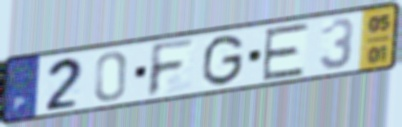0: (93, 49, 129, 103)
2: (42, 53, 87, 115)
3: (318, 15, 355, 73)
E: (260, 20, 312, 83)
F: (145, 36, 198, 99)
G: (199, 32, 247, 88)
